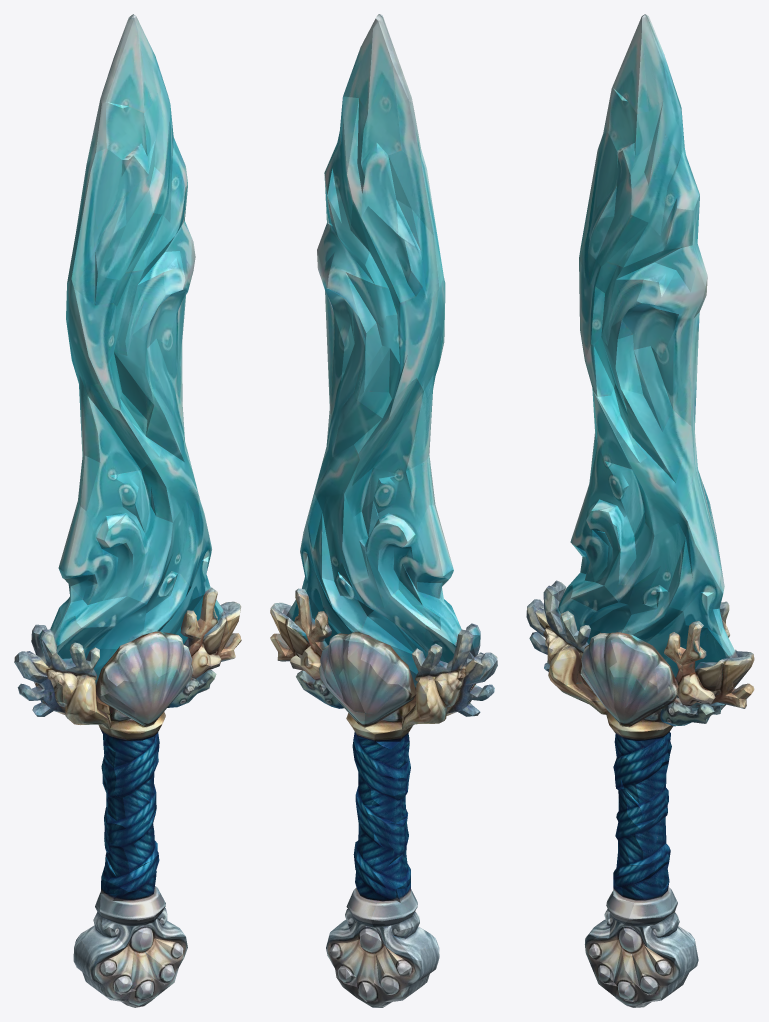
File: epee_eau.glb
The picture shows the model from 3 angles, left to right: view 1: azimuth 30°, elevation 25°; view 2: azimuth 150°, elevation 25°; view 3: azimuth 330°, elevation 25°; orthographic projection.
Size of the model in its own units: 0.4527 by 1.9 by 0.1993.
1 material, 1 textured.
